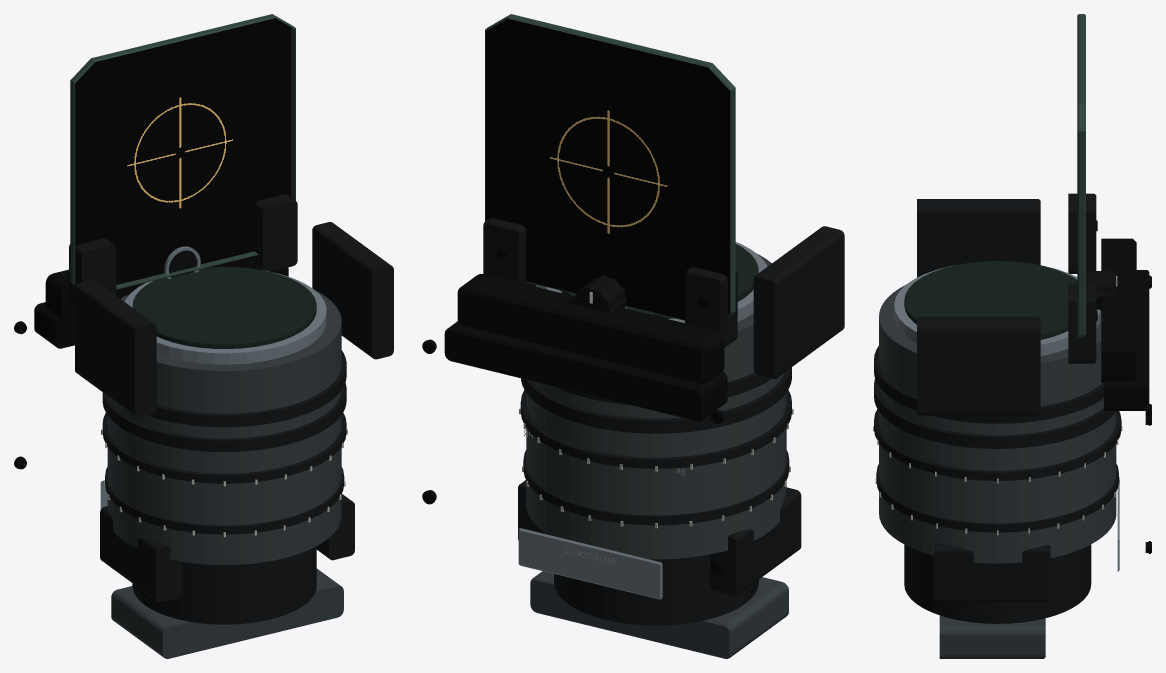
Rendered from MFDStudio.obj.
The picture shows the model from 3 angles, left to right: view 1: azimuth 30°, elevation 25°; view 2: azimuth 150°, elevation 25°; view 3: azimuth 270°, elevation 25°; orthographic projection. The views are drawn at different scales.
Visible parts, largest first — view 1: MFDStudioBody, MFDStudioScreen, MFDStudioCombinerFrame, MFDStudioKnob0; view 2: MFDStudioBody, MFDStudioScreen, MFDStudioCombinerFrame, MFDStudioKnob0, MFDStudioScrewsBase; view 3: MFDStudioBody, MFDStudioCombinerFrame, MFDStudioKnob0.
Part boxes in pixels (x1,y1,x2,y2): MFDStudioBody: (34, 222, 393, 658); MFDStudioScreen: (75, 18, 290, 284); MFDStudioCombinerFrame: (69, 14, 297, 309); MFDStudioKnob0: (163, 246, 200, 278); MFDStudioBody: (444, 226, 844, 658); MFDStudioScreen: (485, 18, 730, 319); MFDStudioCombinerFrame: (483, 14, 737, 347); MFDStudioKnob0: (572, 275, 627, 312); MFDStudioScrewsBase: (422, 339, 724, 574); MFDStudioBody: (873, 199, 1149, 658); MFDStudioCombinerFrame: (1068, 14, 1096, 363); MFDStudioKnob0: (1086, 271, 1117, 310).
Bounding box in the file's own units: 0.1251 × 0.2435 × 0.1104.
Materials: 12 (1 with a texture image).
